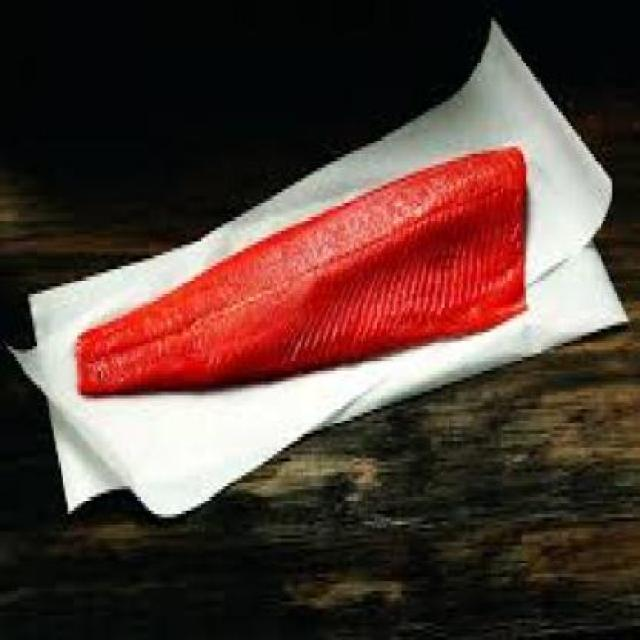salmon: (68, 137, 540, 403)
